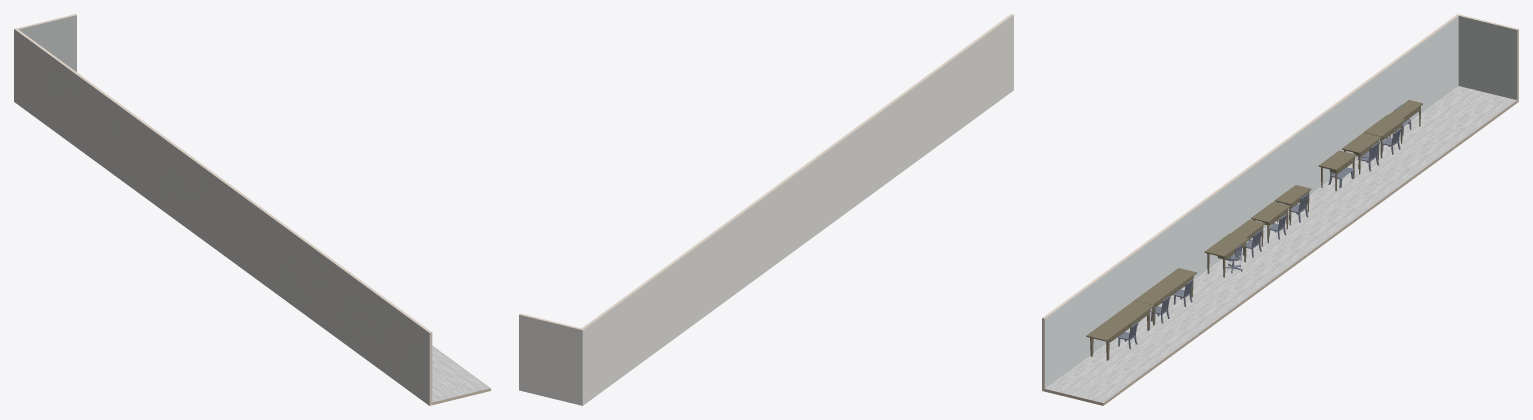
3 views of the same model, side by side, from view 1: azimuth 30°, elevation 25°; view 2: azimuth 150°, elevation 25°; view 3: azimuth 330°, elevation 25° (orthographic). The views are drawn at different scales.
Parts seen in each view (by area): view 1: wall_0 (×2), floor_Dining Room_0, wall_1; view 2: wall_0 (×2), wall_1; view 3: wall_0 (×2), floor_Dining Room_0 (×2), wall_1, table9, table6, table3, table4, table0, table2, table5, table7, table8 (+1 smaller).
Part boxes in pixels (x1,y1,x2,y2): wall_0 (×2): (14,29,431,405); floor_Dining Room_0: (432,345,490,402); wall_1: (18,15,76,71); wall_0 (×2): (582,14,1013,405); wall_1: (519,314,582,405); wall_0 (×2): (1042,14,1458,388); floor_Dining Room_0 (×2): (1044,86,1517,405); wall_1: (1458,16,1517,99); table9: (1086,300,1154,360); table6: (1134,268,1196,325); table3: (1204,233,1248,277); table4: (1363,115,1405,158); table0: (1318,150,1356,191); table2: (1251,201,1290,243); table5: (1342,132,1381,174); table7: (1274,185,1311,225); table8: (1230,219,1265,246).
Bounding box in the file's own units: 2.3 × 2.62 × 26.99.
8 materials, 1 textured.
